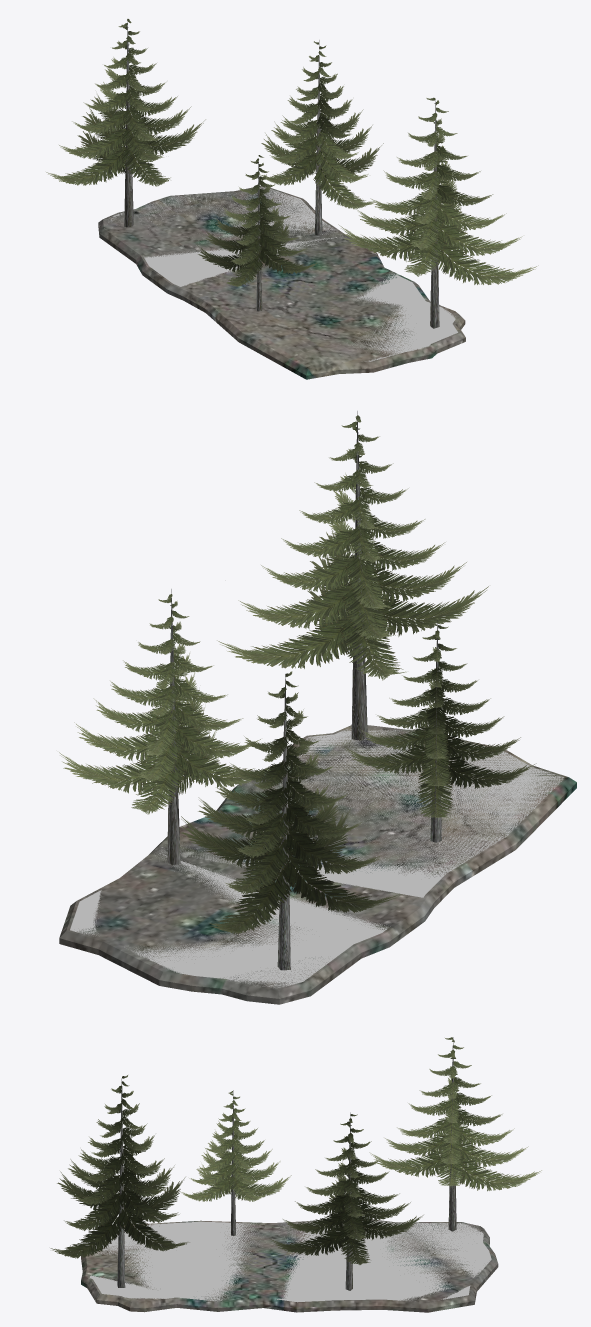
File: cf_ta_forest1.obj
3 views of the same model, one above another, from view 1: azimuth 30°, elevation 25°; view 2: azimuth 150°, elevation 25°; view 3: azimuth 270°, elevation 25° (orthographic). The views are drawn at different scales.
Visible parts, largest first — view 1: forest1_Plane.005, x1.002_x1.003, x1.001, x1.003_x1.004, x1.000_x1.002; view 2: forest1_Plane.005, x1.002_x1.003, x1.001, x1.003_x1.004, x1.000_x1.002; view 3: forest1_Plane.005, x1.002_x1.003, x1.001, x1.003_x1.004, x1.000_x1.002.
Part boxes in pixels (box(x1,y1,x2,y2)): forest1_Plane.005: box(98, 186, 465, 379); x1.002_x1.003: box(338, 97, 538, 328); x1.001: box(46, 19, 205, 227); x1.003_x1.004: box(259, 40, 383, 234); x1.000_x1.002: box(197, 155, 316, 311); forest1_Plane.005: box(59, 725, 576, 1004); x1.002_x1.003: box(217, 411, 488, 740); x1.001: box(180, 671, 397, 970); x1.003_x1.004: box(59, 589, 274, 864); x1.000_x1.002: box(345, 618, 536, 842); forest1_Plane.005: box(81, 1219, 498, 1312); x1.002_x1.003: box(50, 1075, 189, 1287); x1.001: box(369, 1037, 541, 1231); x1.003_x1.004: box(269, 1112, 423, 1290); x1.000_x1.002: box(180, 1090, 291, 1235).
Bounding box in the file's own units: 17.67 × 11.77 × 26.82.
